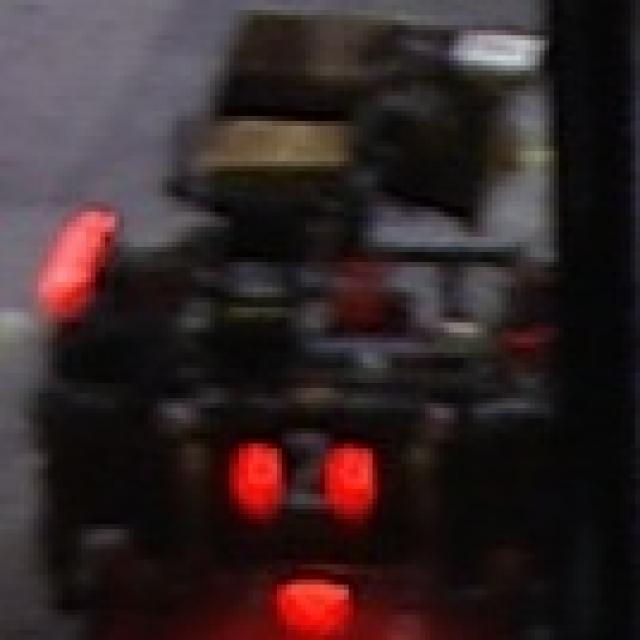R2: (205, 411, 382, 532)
